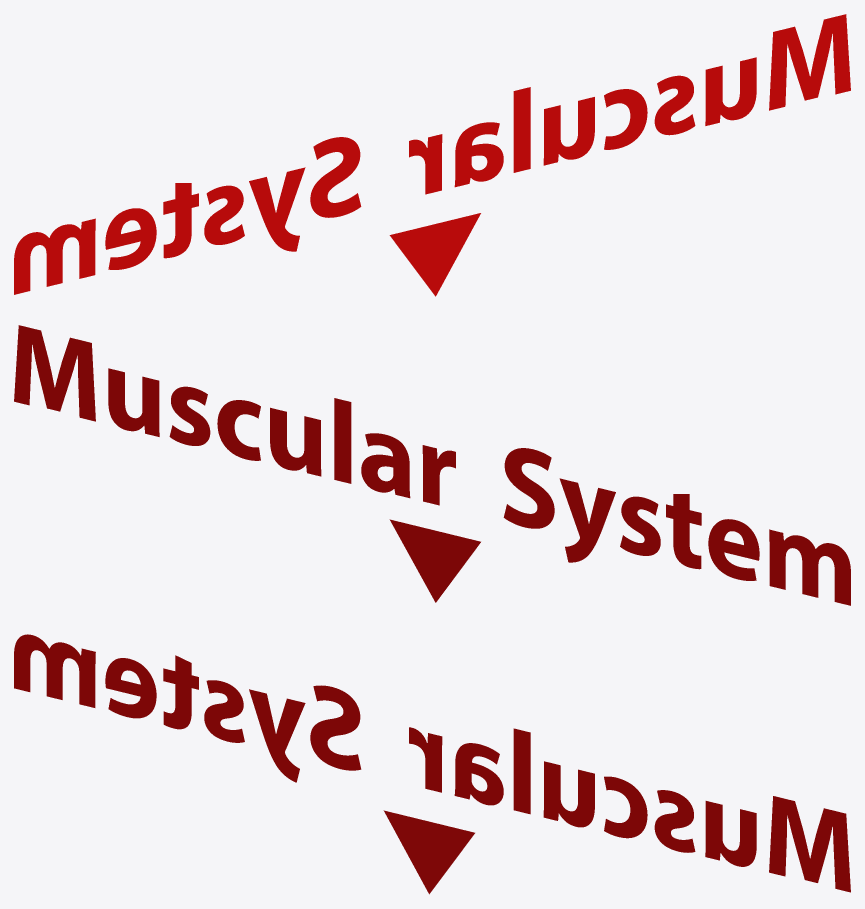
The model's file is Muscular System FBX.FBX.
The picture shows the model from 3 angles, top to bottom: view 1: azimuth 30°, elevation 25°; view 2: azimuth 150°, elevation 25°; view 3: azimuth 330°, elevation 25°; orthographic projection.
Parts seen in each view (by area): view 1: Muscular System_TXT, Arrow; view 2: Muscular System_TXT, Arrow; view 3: Muscular System_TXT, Arrow.
Boxes of the visible parts, x1=… form: Muscular System_TXT: x1=14, y1=14, x2=850, y2=294; Arrow: x1=389, y1=213, x2=480, y2=296; Muscular System_TXT: x1=14, y1=325, x2=850, y2=605; Arrow: x1=389, y1=519, x2=480, y2=602; Muscular System_TXT: x1=14, y1=634, x2=850, y2=892; Arrow: x1=383, y1=810, x2=474, y2=894.
Bounding box in the file's own units: 184 × 38.52 × 1.23.
